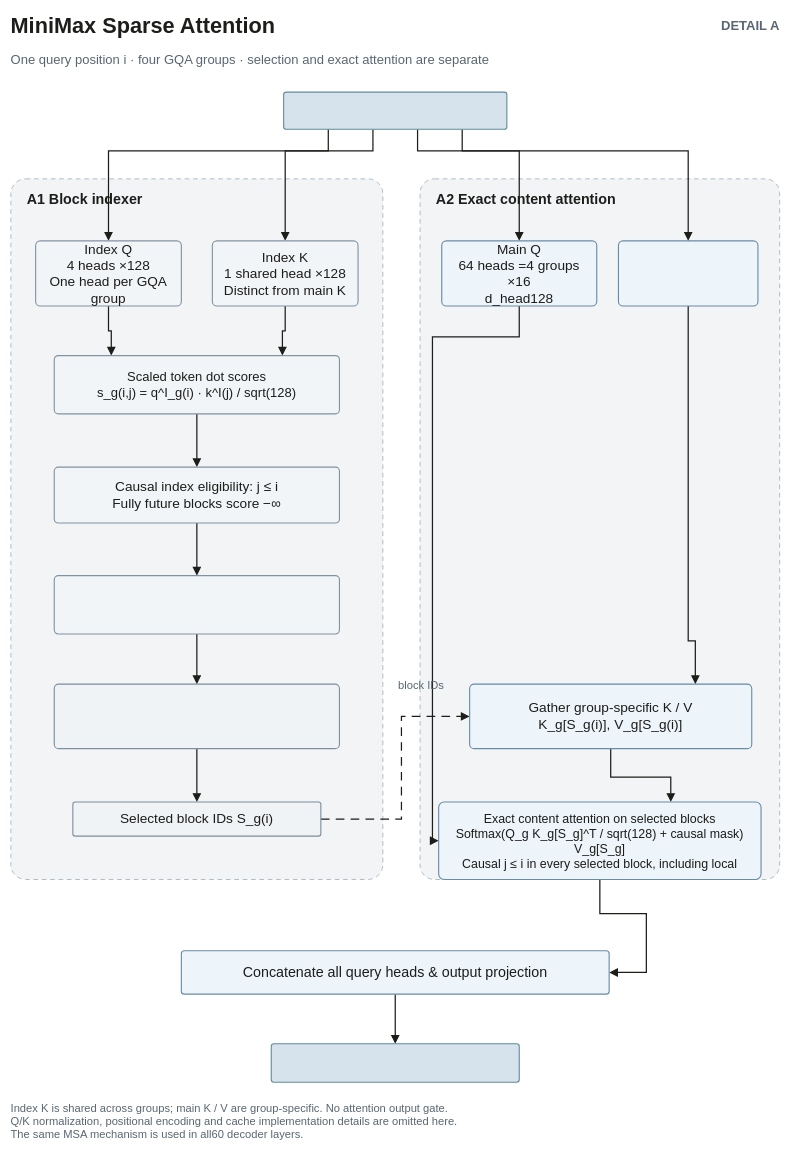
This 791x1154 diagram has some shape labels left out. Here are the shapes that lost their labels. From the top down, the centre of each, then its label:
point 395,110: u = Norm(x)
point 688,273: Main K / V 4 group-specific KV heads d_head128
point 196,604: Block max over128-token blocks b_g(i,b) = max s_g(i,j), j in b and j ≤ i
point 196,716: Top16 blocks per group Local block is included within the16-block budget
point 394,1062: Attention output
